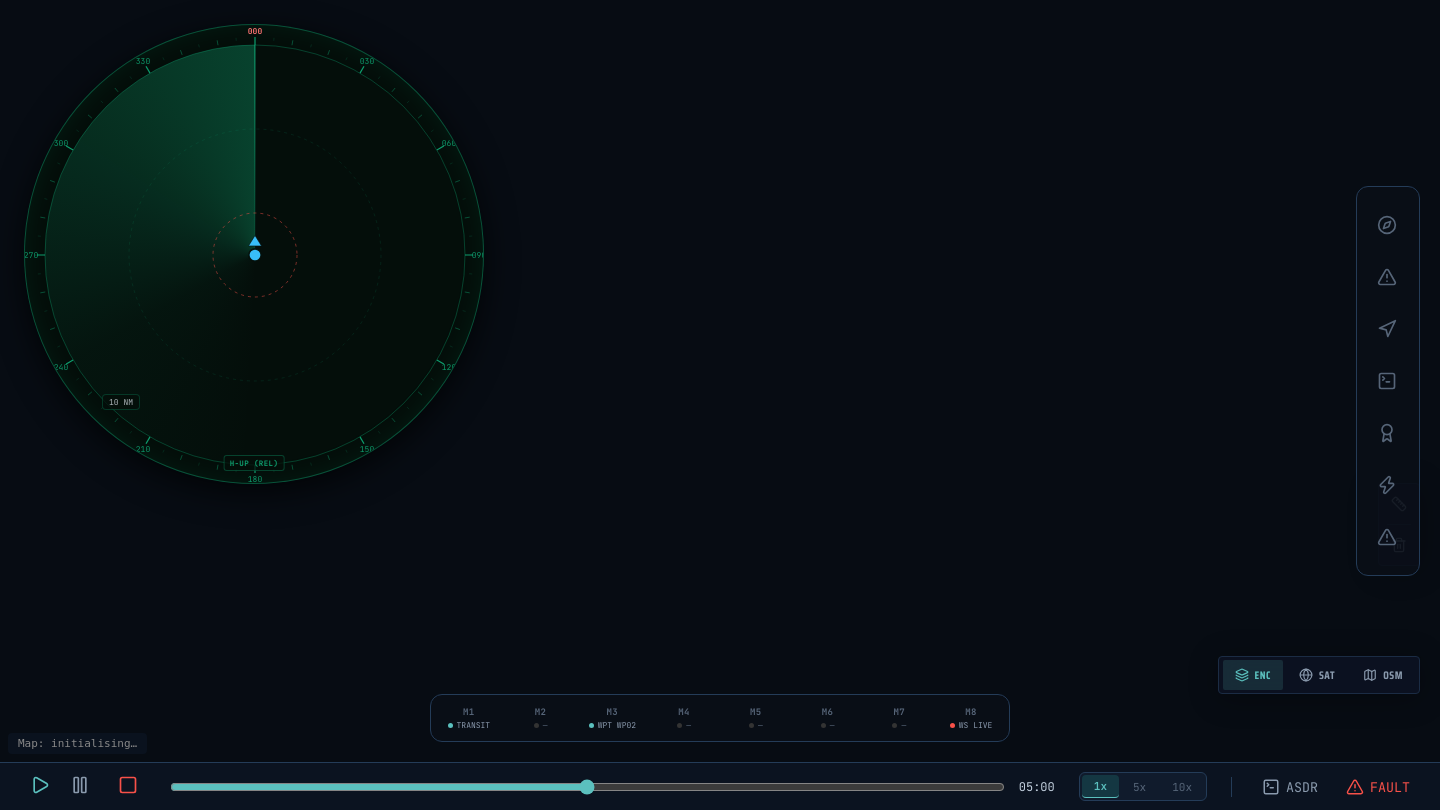
Test: SimulationMonitor › renders real voyage plan progress from current route leg and speed profile
Click the button with test id "right-tab-ship" at (1388, 225), box top-left (1366, 203), bottom-right (1410, 247)
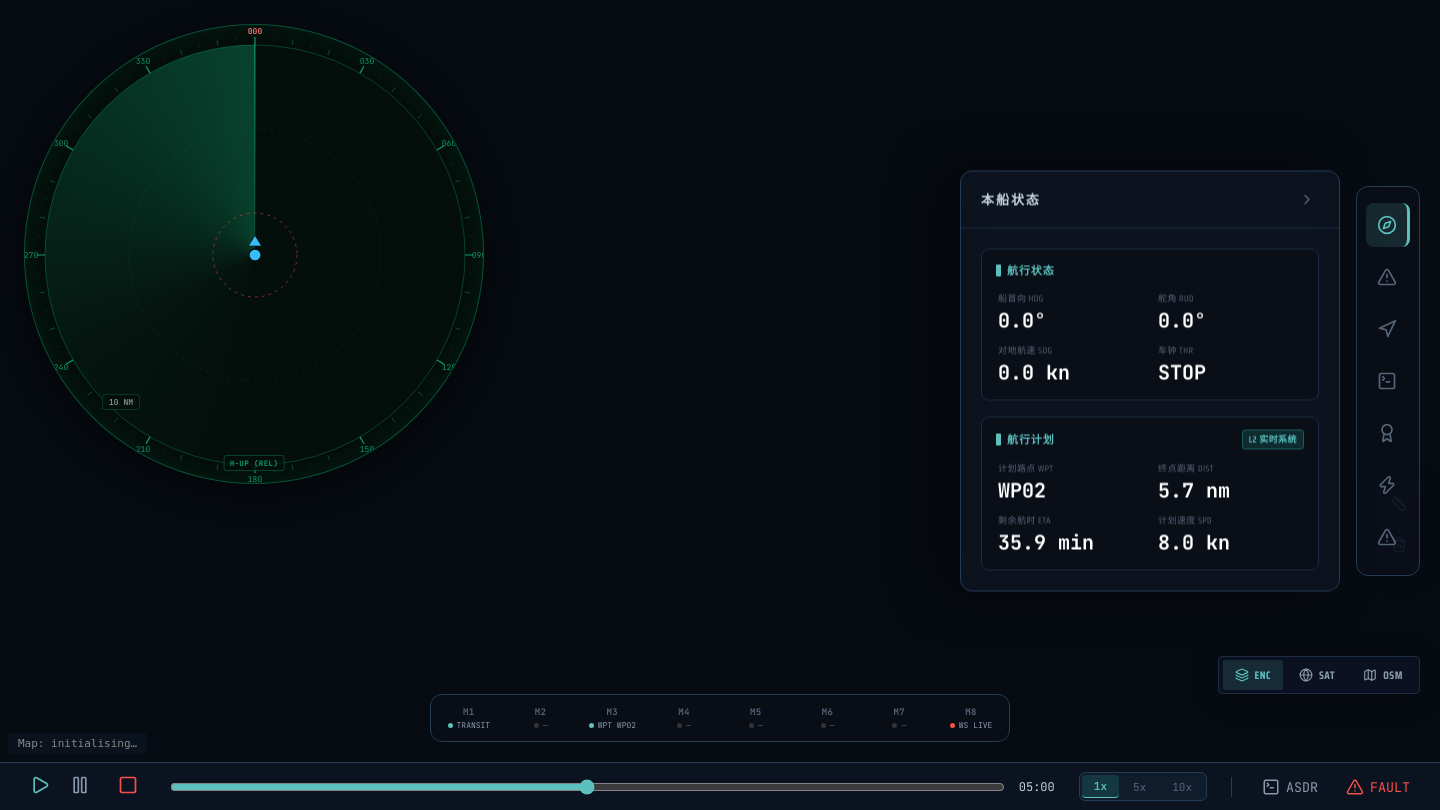
expect the text "L2 实时系统" is shown: met, box top-left (1242, 430), bottom-right (1304, 450)
expect the text "WP02" is shown: met, box top-left (998, 478), bottom-right (1046, 504)
expect the text "5.7 nm" is shown: met, box top-left (1158, 478), bottom-right (1230, 504)
